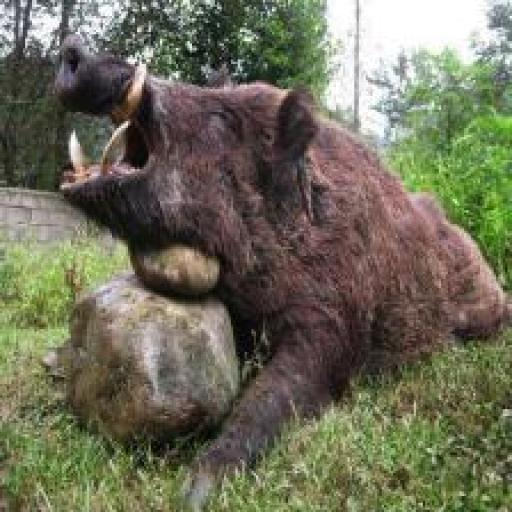Pig: (55, 32, 511, 503)
